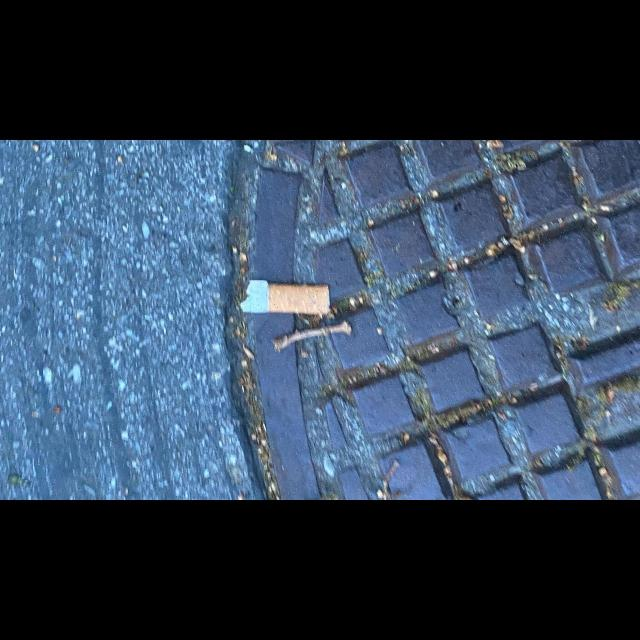cigarette: (239, 279, 331, 315)
